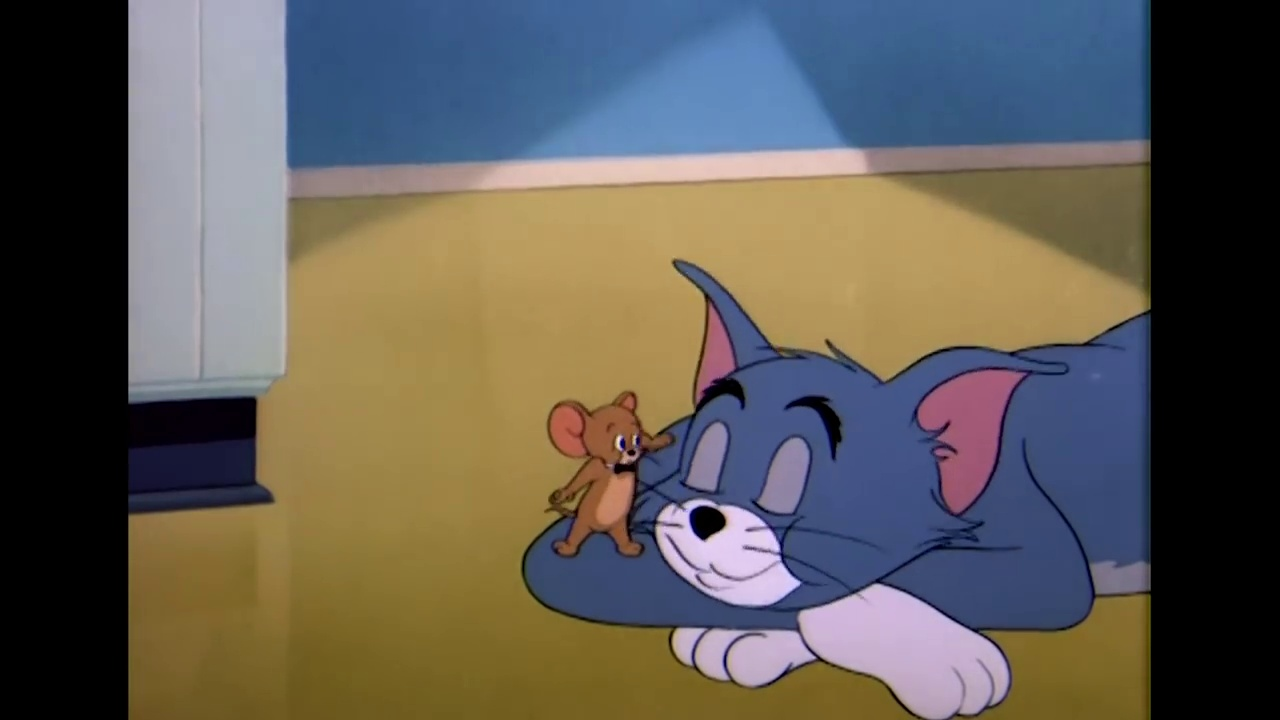tom: (633, 259, 1070, 617)
